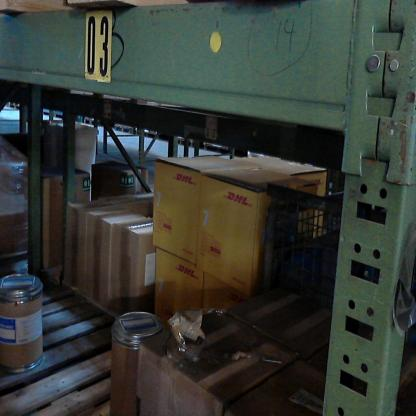pallet: (1, 257, 171, 412), (3, 2, 283, 12), (199, 141, 236, 159), (9, 99, 28, 122), (167, 135, 195, 149), (133, 125, 157, 140), (86, 116, 107, 133), (116, 121, 135, 137)
stillage: (265, 177, 371, 309)
